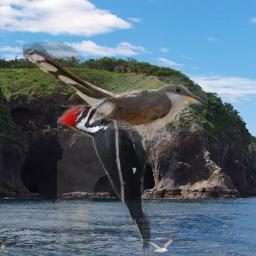Cuckoo: (23, 42, 208, 161)
Woodpecker: (57, 97, 165, 256)
